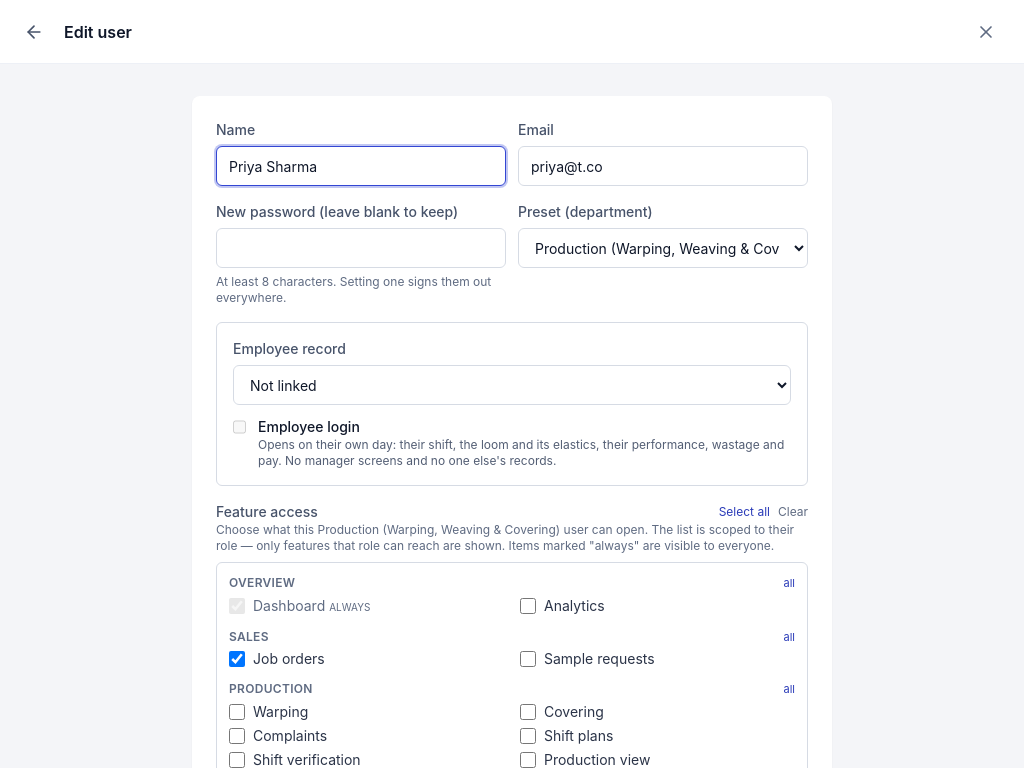
Test case: UserFormScreen — no-access confirmation › warns instead of saving when the last module is unticked
# Drop the only granted feature.
Click the checkbox labelled "Job orders". click: x=237, y=659
box: [229,651,245,667]
(page scrolled)
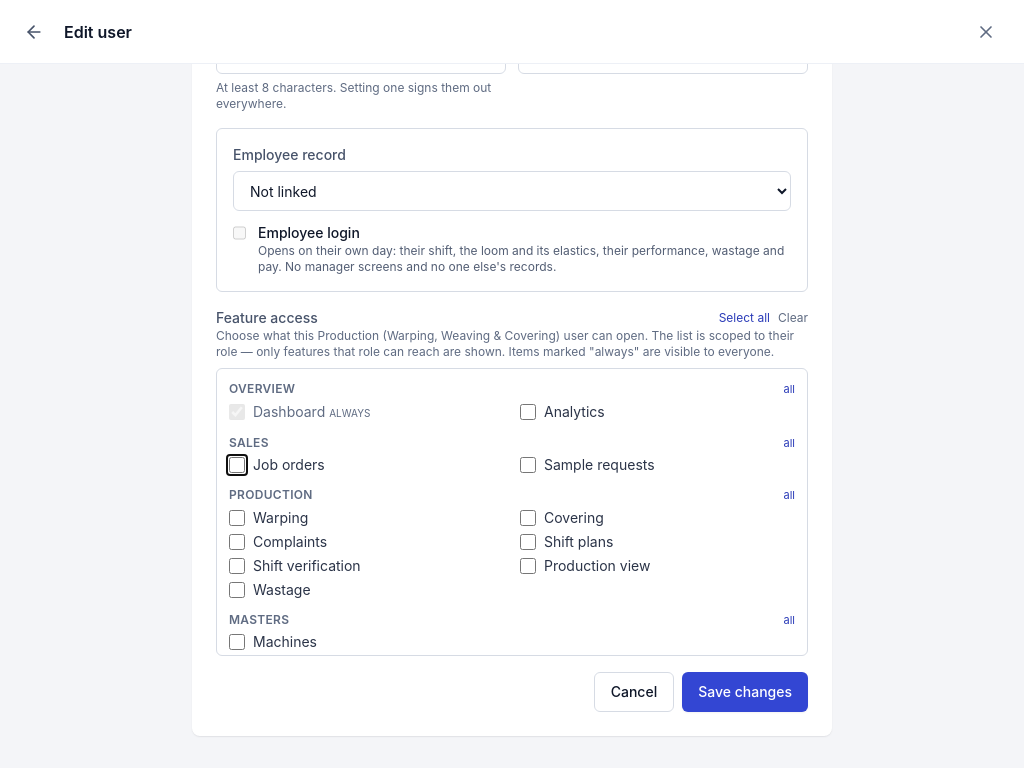
Click the button "Save changes". click: x=745, y=692
box: [682,672,808,712]
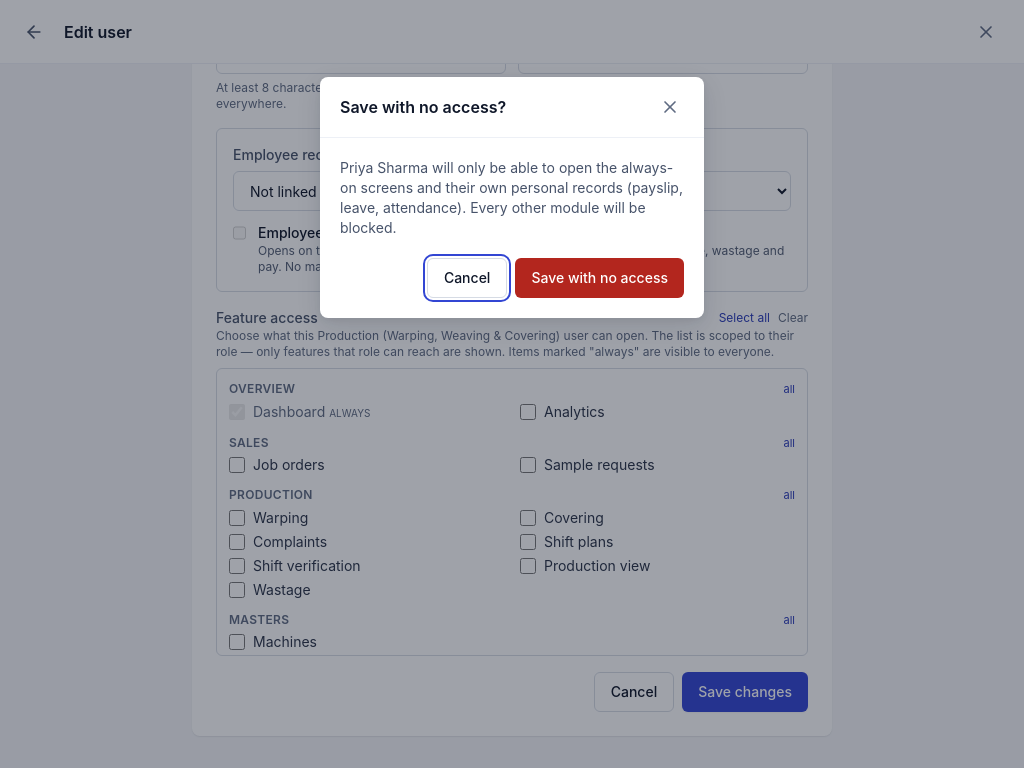
Check: the heading "Save with no access?" is shown, box [340,95,506,119]
